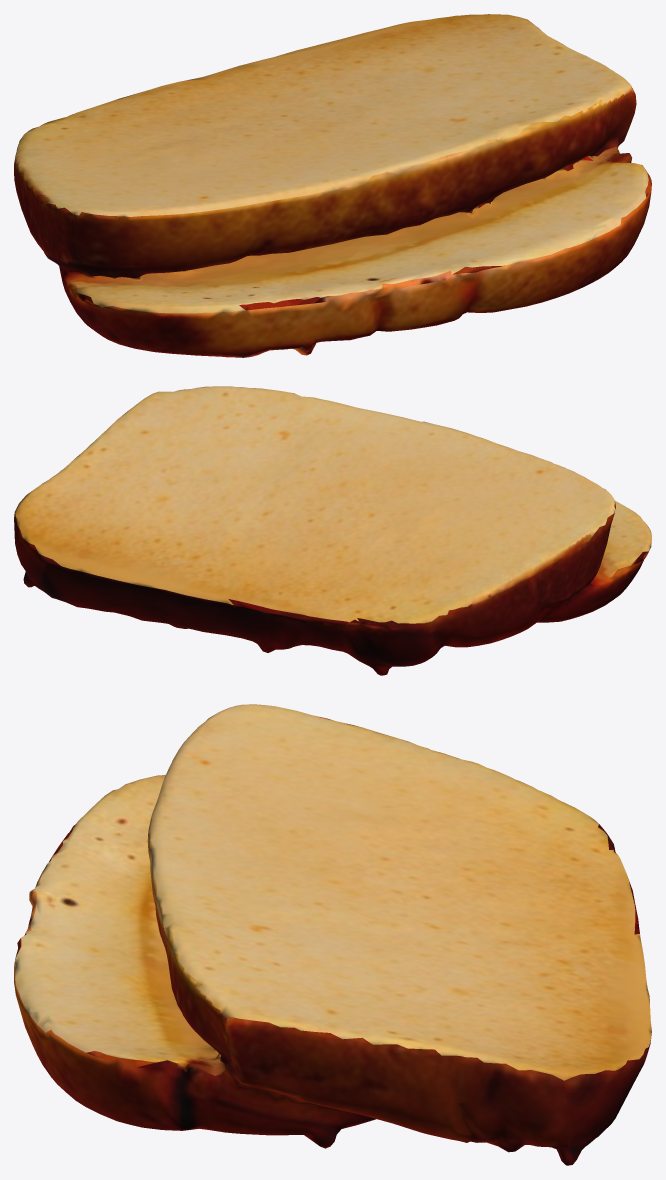
The model's file is garlic bread.glb.
3 views of the same model, one above another, from view 1: azimuth 30°, elevation 25°; view 2: azimuth 150°, elevation 25°; view 3: azimuth 270°, elevation 25° (orthographic). The views are drawn at different scales.
Parts seen in each view (by area): view 1: garlic bread; view 2: garlic bread; view 3: garlic bread.
Boxes of the visible parts, box(x1,y1,x2,y2) form: garlic bread: box(14, 14, 651, 357); garlic bread: box(14, 386, 651, 675); garlic bread: box(14, 704, 651, 1165).
Bounding box in the file's own units: 0.1292 × 0.0297 × 0.1043.
Materials: 1 (1 with a texture image).
